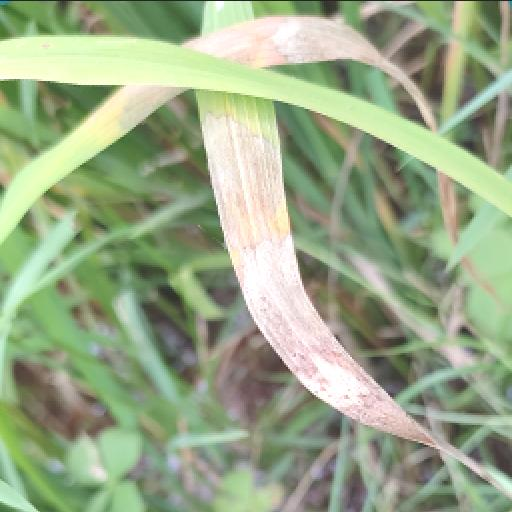Sheath Blight: (188, 114, 470, 466), (114, 8, 448, 152)
